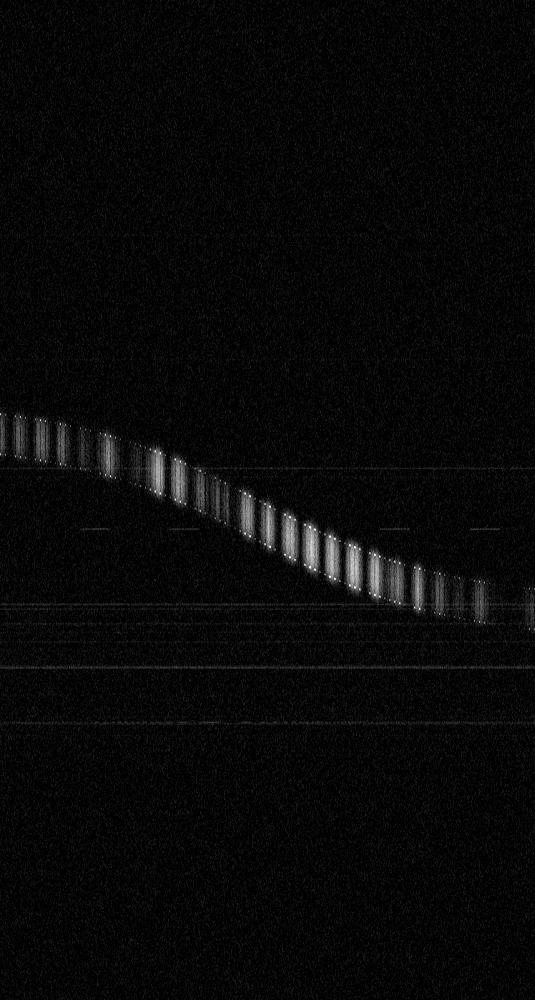signal: (0, 0, 534, 999)
